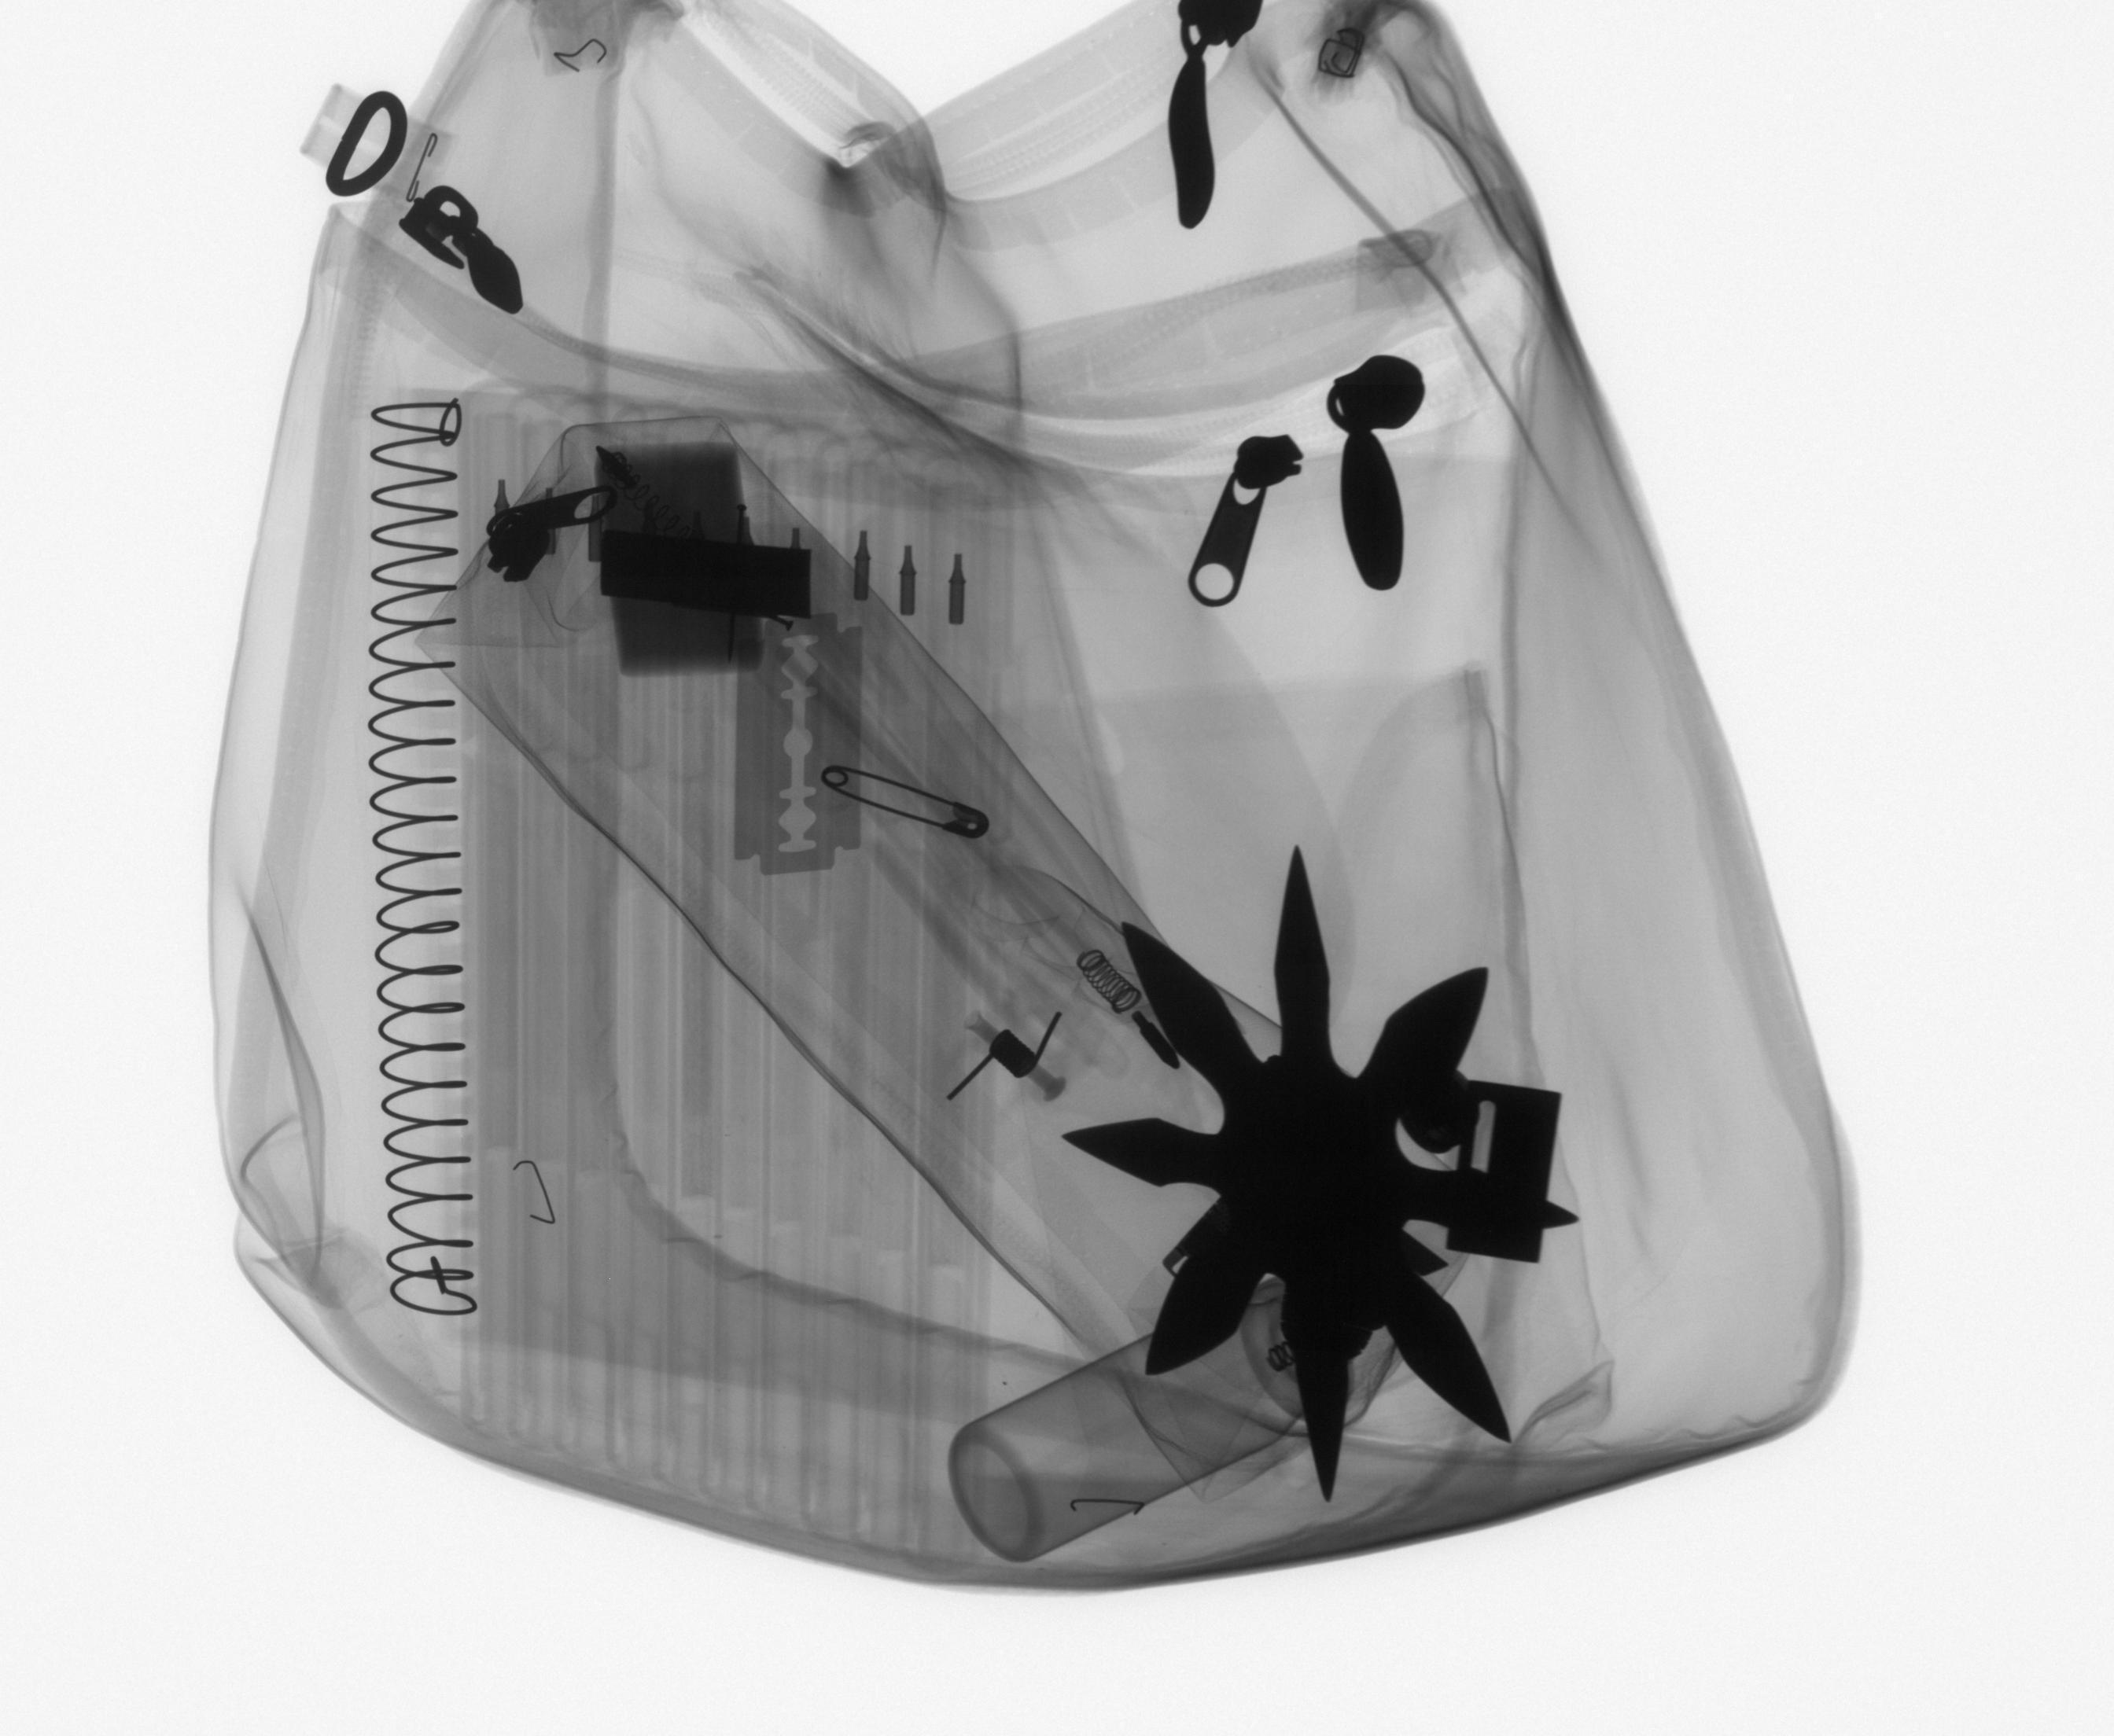RazorBlade: (725, 602, 873, 890)
Shuriken: (1052, 837, 1585, 1513)
